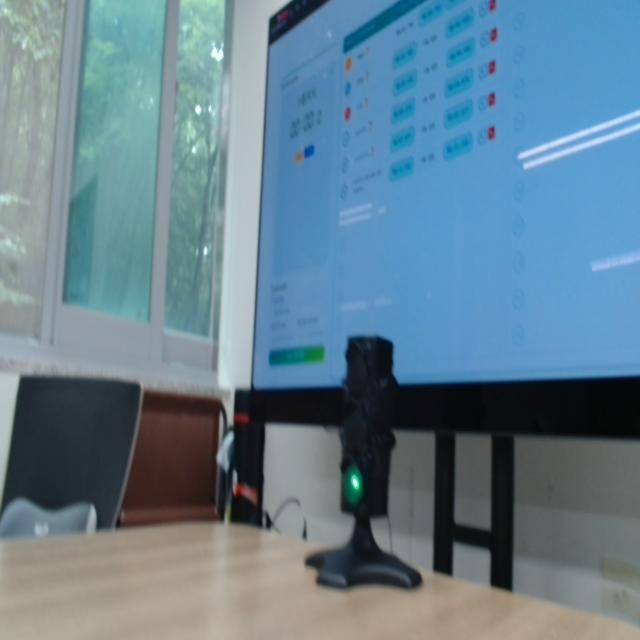green_light: (344, 466, 363, 507)
